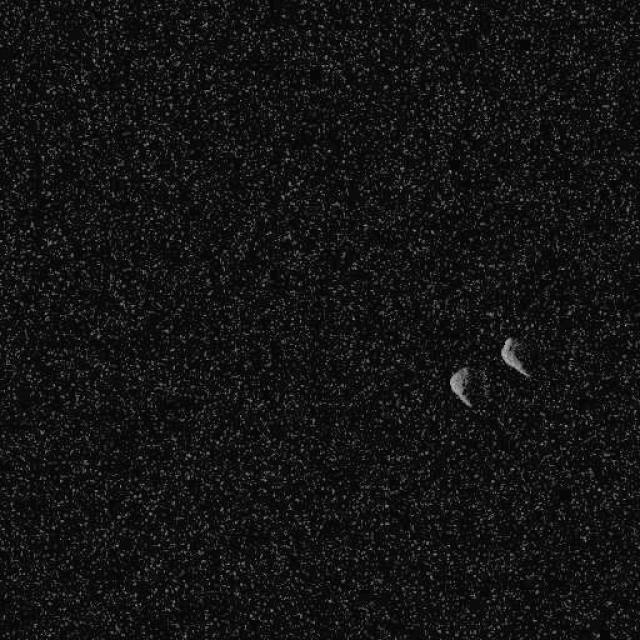D2: (448, 365, 488, 410), (499, 335, 531, 380)
